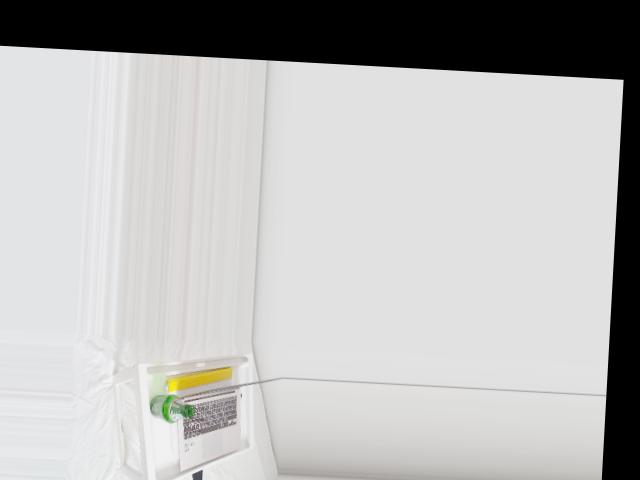beer: (148, 393, 195, 423)
